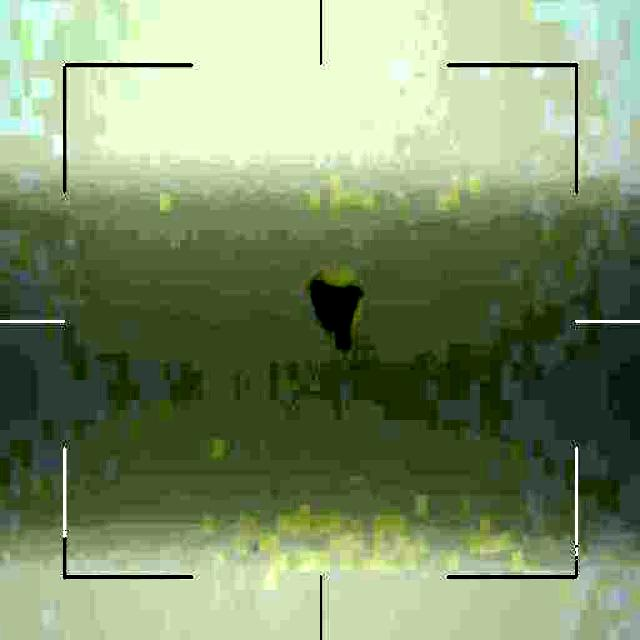bird: (318, 278, 371, 351)
